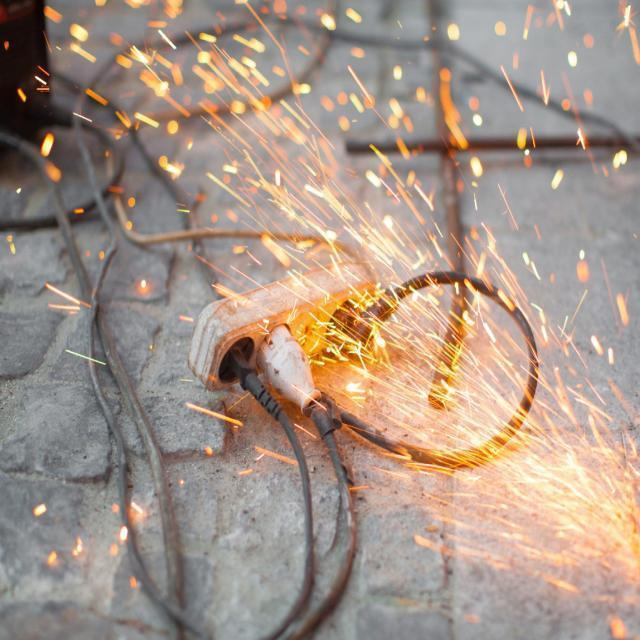Fire: (348, 193, 636, 592)
